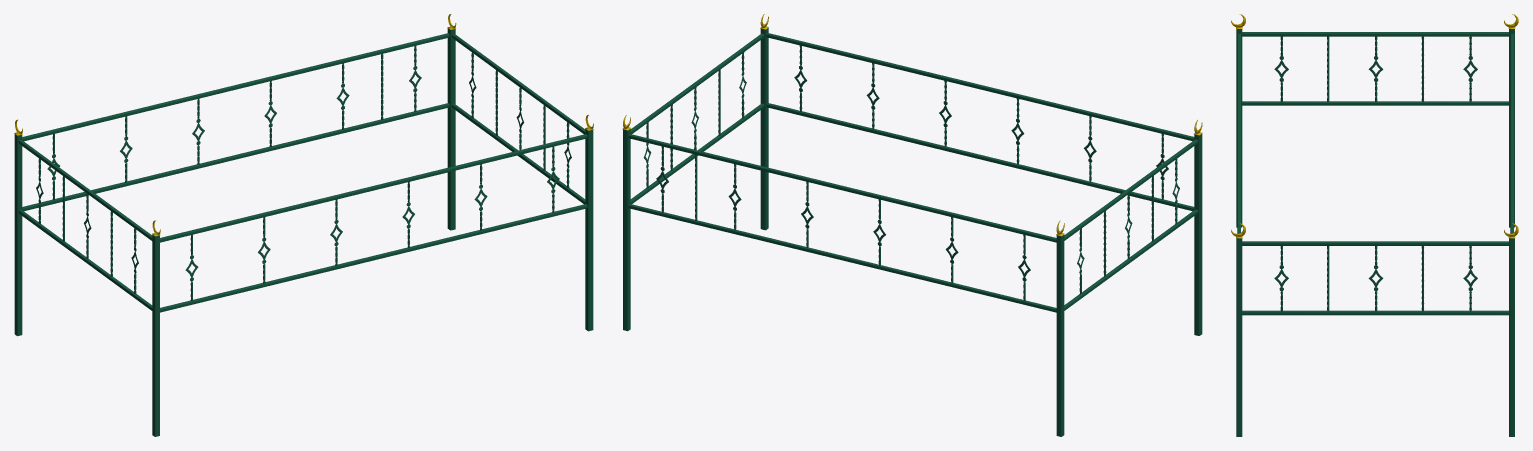
File: Ограда Ами [u_100_muslim] (green).glb
The picture shows the model from 3 angles, left to right: view 1: azimuth 30°, elevation 25°; view 2: azimuth 150°, elevation 25°; view 3: azimuth 270°, elevation 25°; orthographic projection.
Visible parts, largest first — view 1: Куб.003; view 2: Куб.003; view 3: Куб.003.
Boxes of the visible parts, bbox=[...] form: Куб.003: bbox=[14, 14, 593, 436]; Куб.003: bbox=[622, 14, 1202, 436]; Куб.003: bbox=[1231, 14, 1518, 436].
Size of the model in its own units: 2.06 by 0.9611 by 1.18.
